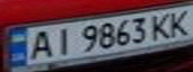3: (130, 15, 151, 44)
6: (115, 17, 136, 47)
8: (97, 19, 118, 51)
9: (75, 21, 100, 53)
A: (21, 28, 57, 61)
I: (48, 25, 78, 56)
K: (163, 7, 193, 37), (145, 11, 175, 40)
